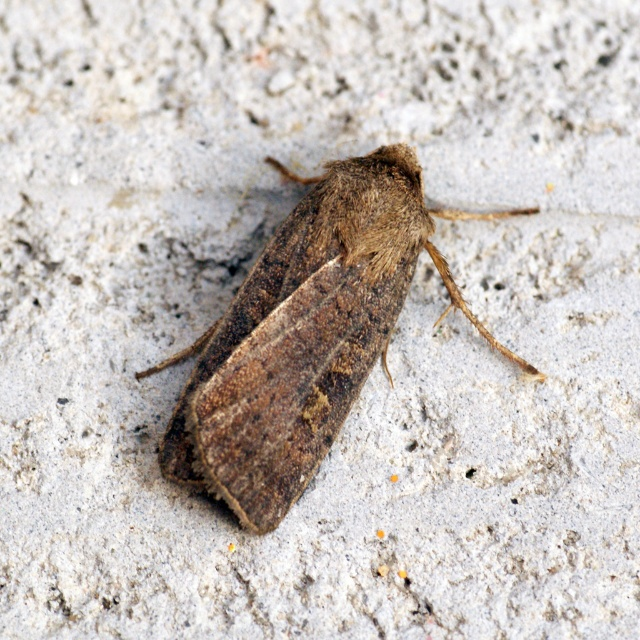Moths and butterflies: (132, 138, 550, 539)
